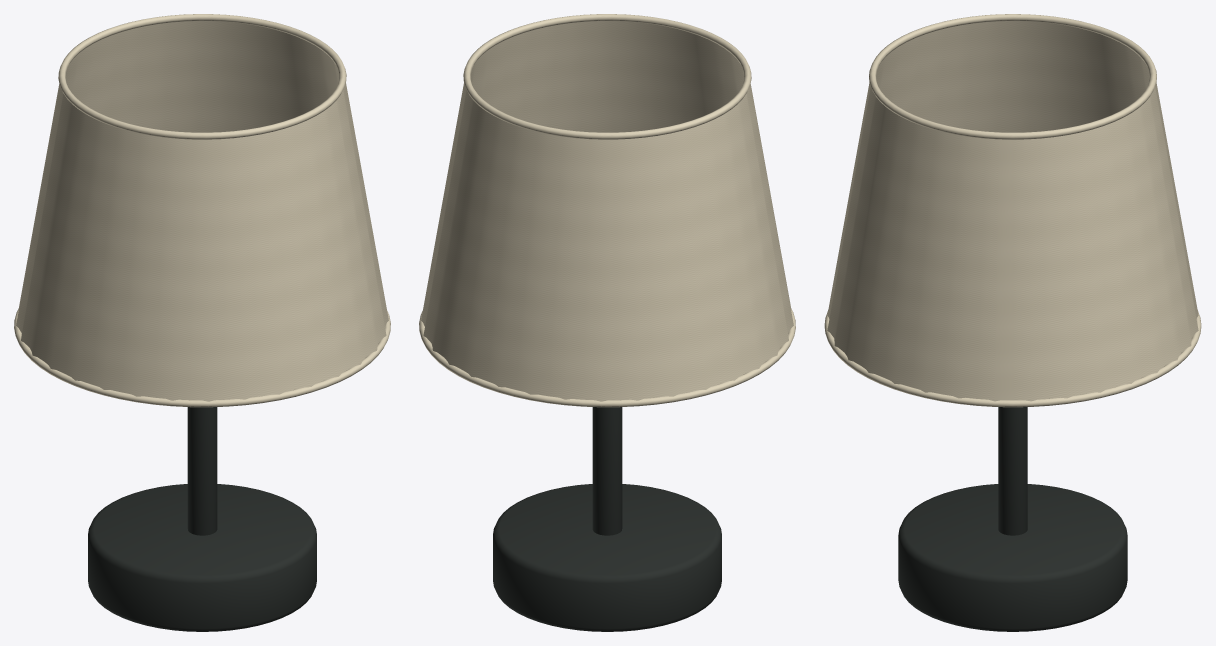
File: table-lamp.glb
3 views of the same model, side by side, from view 1: azimuth 30°, elevation 25°; view 2: azimuth 150°, elevation 25°; view 3: azimuth 270°, elevation 25° (orthographic).
Visible parts, largest first — view 1: table-lamp-mesh; view 2: table-lamp-mesh; view 3: table-lamp-mesh.
Part boxes in pixels (x1,y1,x2,y2): table-lamp-mesh: [14, 14, 390, 631]; table-lamp-mesh: [419, 14, 795, 631]; table-lamp-mesh: [824, 14, 1201, 631].
Size of the model in its own units: 0.3 by 0.45 by 0.3.
2 materials, 1 textured.
